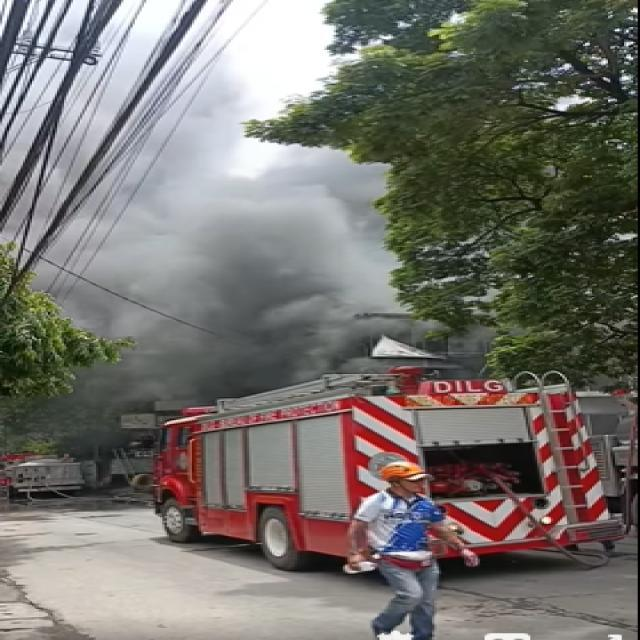Smoke: (51, 98, 420, 328), (117, 312, 315, 387)
